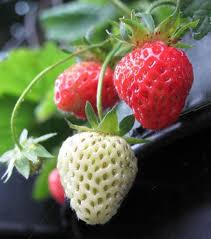ripe: (109, 37, 195, 131), (46, 60, 132, 122), (41, 158, 88, 201)
unripe: (56, 130, 143, 226)
